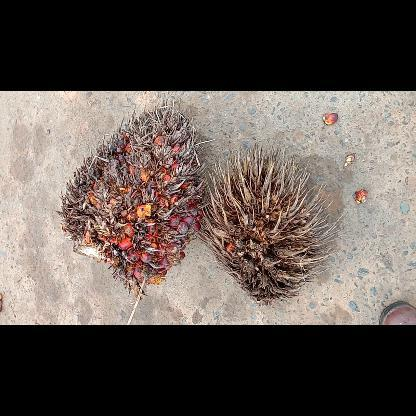Janjang kosong: (195, 140, 344, 306)
Terlalu masak: (57, 98, 212, 324)
